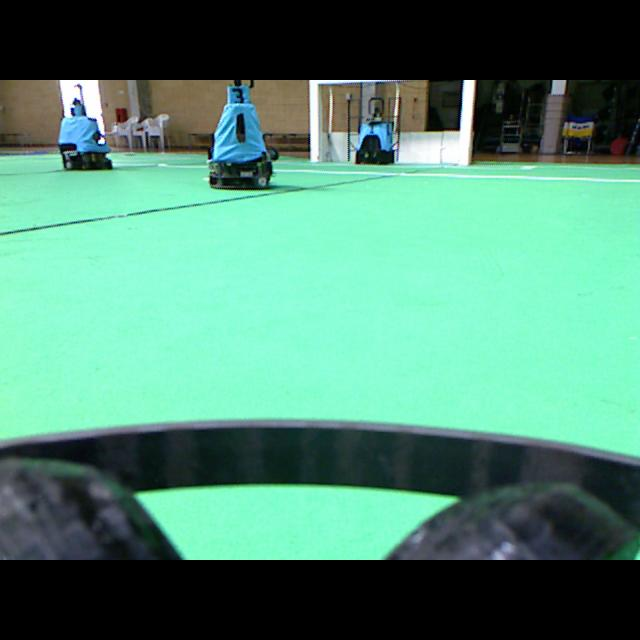goal: (458, 80, 475, 165), (309, 80, 318, 161)
